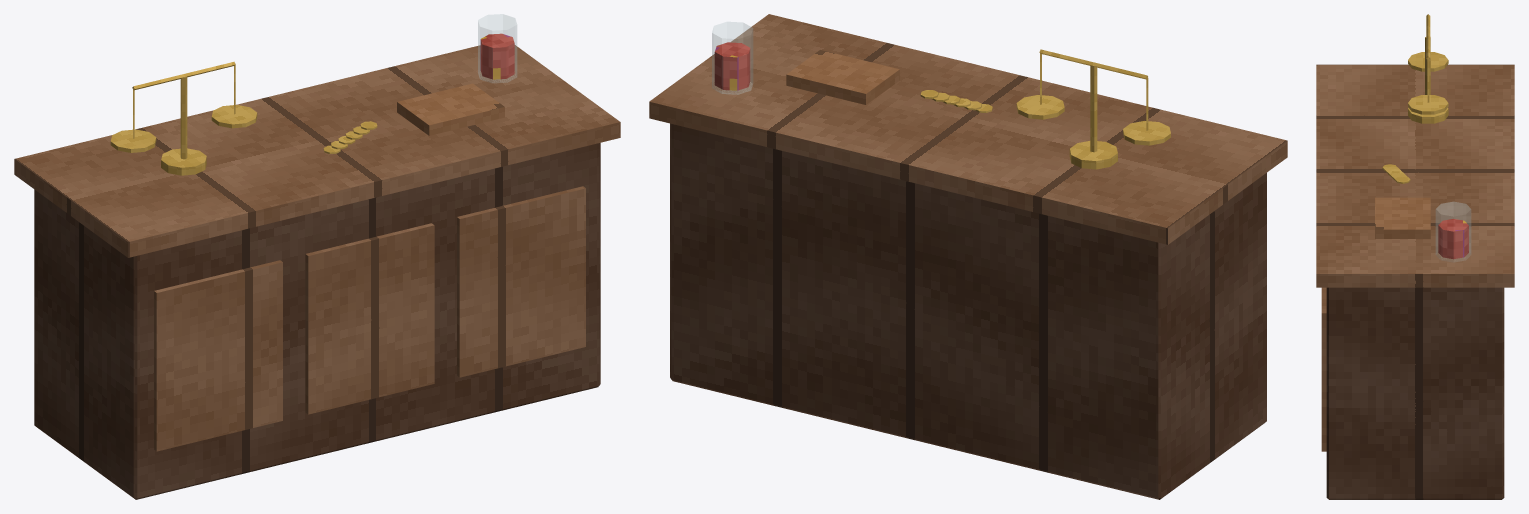
File: shop_counter.glb
3 views of the same model, side by side, from view 1: azimuth 30°, elevation 25°; view 2: azimuth 150°, elevation 25°; view 3: azimuth 270°, elevation 25° (orthographic). The views are drawn at different scales.
Visible parts, largest first — view 1: body; view 2: body; view 3: body.
Boxes of the visible parts, bbox=[...] form: body: bbox=[14, 14, 620, 499]; body: bbox=[649, 14, 1287, 499]; body: bbox=[1316, 14, 1514, 499].
Size of the model in its own units: 1.95 by 1.36 by 0.78.
Materials: 6 (5 with a texture image).
